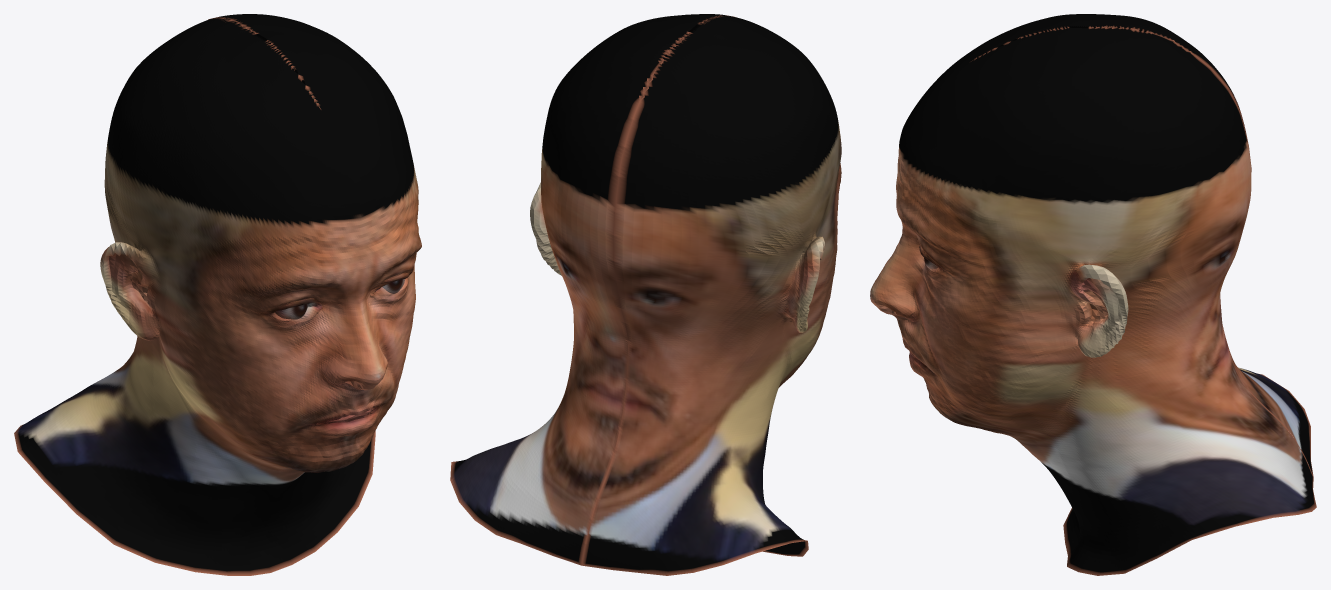
Rendered from mesh_coarse_detail.obj.
The picture shows the model from 3 angles, left to right: view 1: azimuth 30°, elevation 25°; view 2: azimuth 150°, elevation 25°; view 3: azimuth 270°, elevation 25°; orthographic projection.
Bounding box in the file's own units: 0.2184 × 0.3285 × 0.2522.
